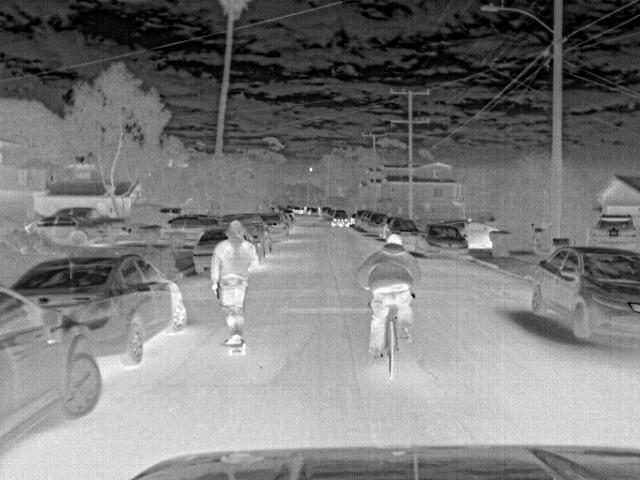car: (11, 254, 191, 367), (2, 286, 106, 449), (527, 245, 639, 345), (52, 206, 130, 243), (21, 214, 112, 244), (218, 216, 277, 260), (134, 214, 215, 246), (438, 220, 508, 252), (411, 225, 467, 260), (587, 213, 640, 245), (191, 229, 226, 276), (383, 215, 417, 243), (257, 212, 290, 239), (331, 210, 354, 228), (360, 211, 380, 231), (366, 214, 387, 233)
person: (358, 234, 418, 356), (210, 220, 258, 344)
